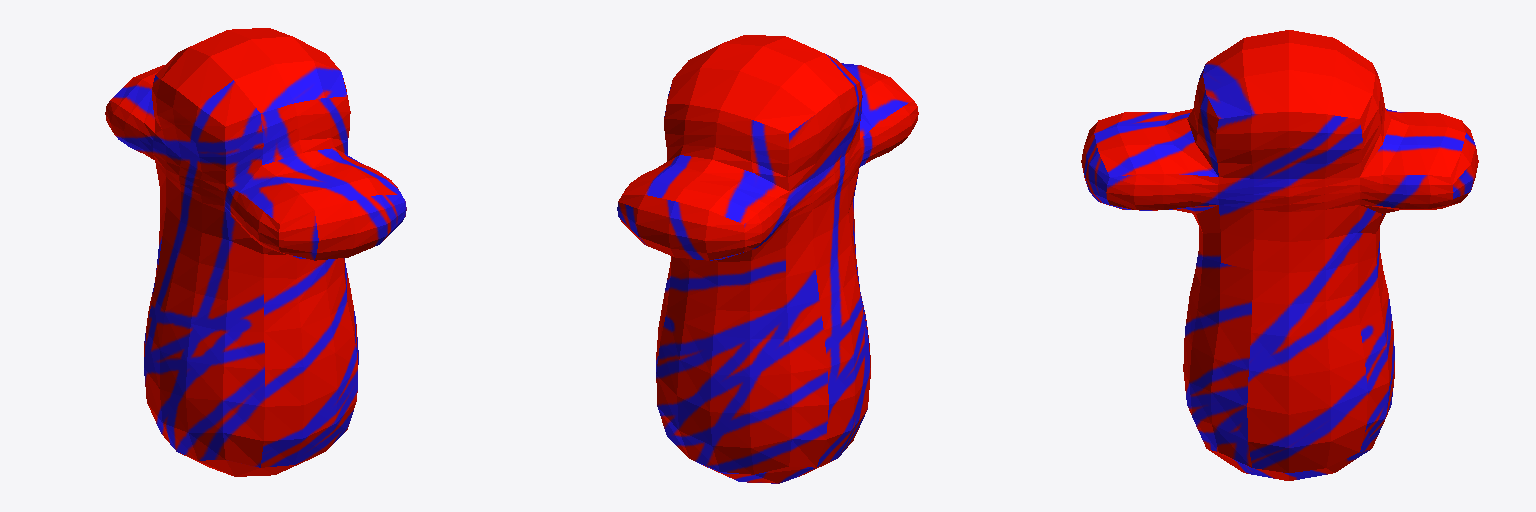
3 views of the same model, side by side, from view 1: azimuth 30°, elevation 25°; view 2: azimuth 150°, elevation 25°; view 3: azimuth 270°, elevation 25° (orthographic).
Visible parts, largest first — view 1: Cube; view 2: Cube; view 3: Cube.
Part boxes in pixels (bbox=[...]): Cube: bbox=[105, 28, 406, 476]; Cube: bbox=[617, 35, 918, 483]; Cube: bbox=[1081, 30, 1478, 480].
Bounding box in the file's own units: 3.01 × 6.68 × 5.64.
1 materials, 1 textured.